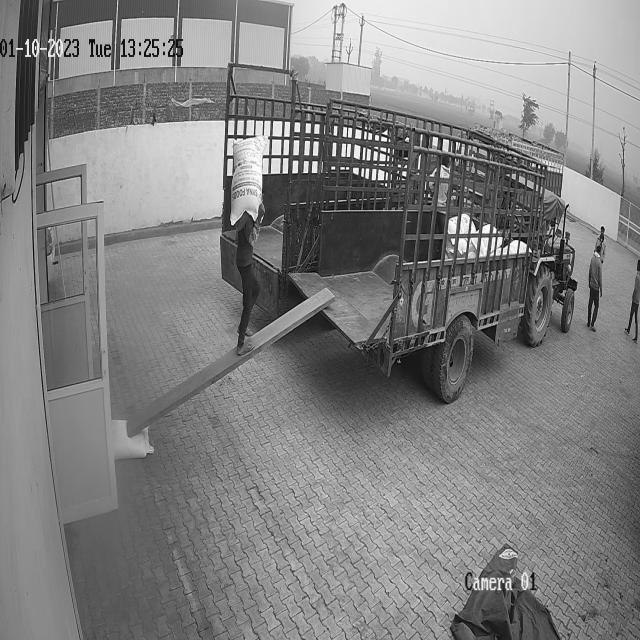sack: (230, 136, 267, 224), (110, 418, 153, 458)
